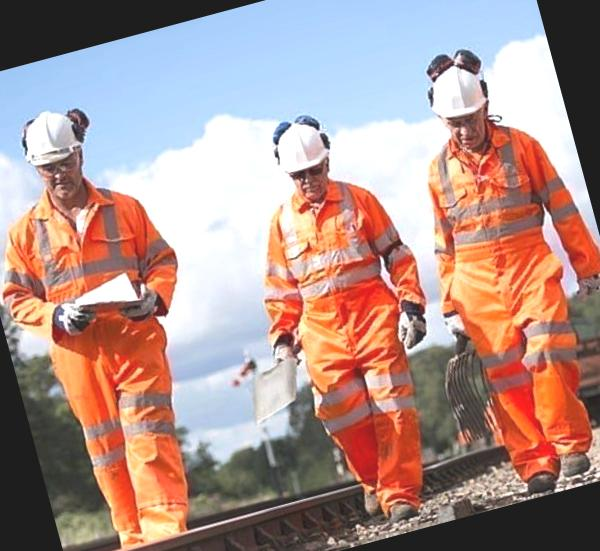helmet: (420, 56, 498, 136), (12, 102, 88, 183), (264, 116, 342, 191)
person: (218, 98, 480, 536), (0, 87, 237, 551), (390, 35, 600, 496)
